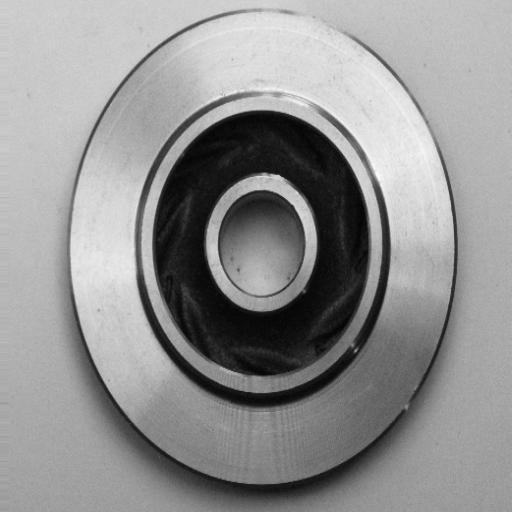scratch: (258, 0, 360, 53), (255, 81, 321, 124), (342, 336, 368, 371)
unpolished_casting: (68, 6, 455, 492)
